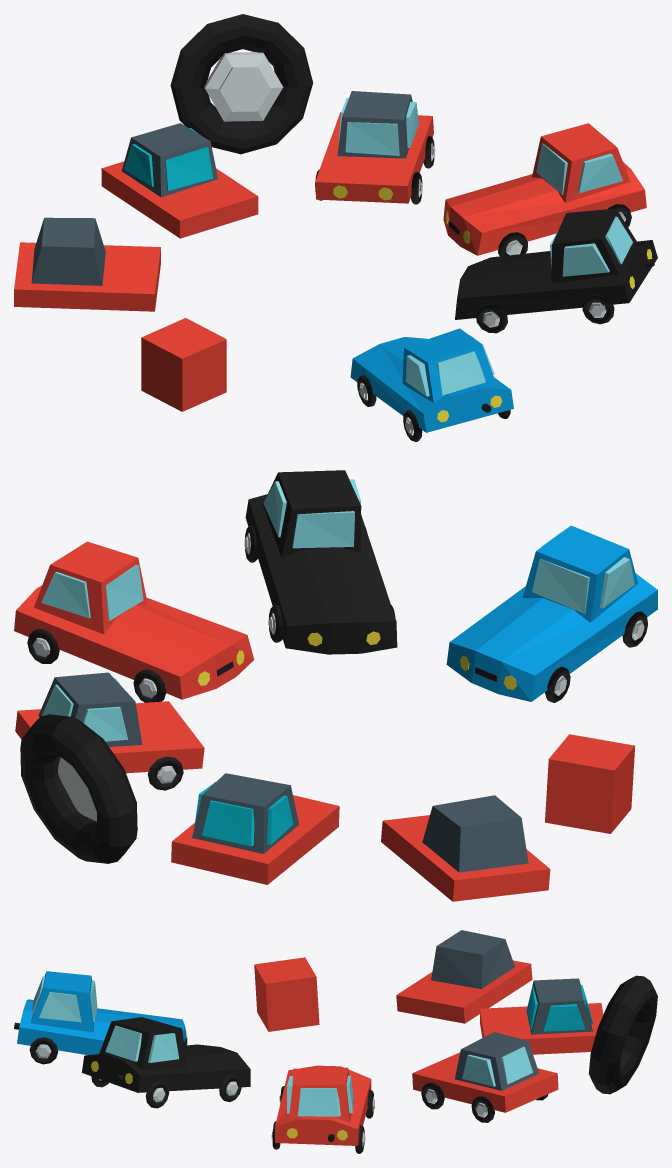
Rendered from scene_4RHlh5qPWu.glb.
3 views of the same model, one above another, from view 1: azimuth 30°, elevation 25°; view 2: azimuth 150°, elevation 25°; view 3: azimuth 270°, elevation 25° (orthographic). The views are drawn at different scales.
Visible parts, largest first — view 1: Node; view 2: Node; view 3: Node.
Part boxes in pixels (x1,y1,x2,y2): Node: (14,14,657,441); Node: (14,470,657,901); Node: (14,930,657,1153).
Bounding box in the file's own units: 2.45 × 0.7451 × 2.95.
